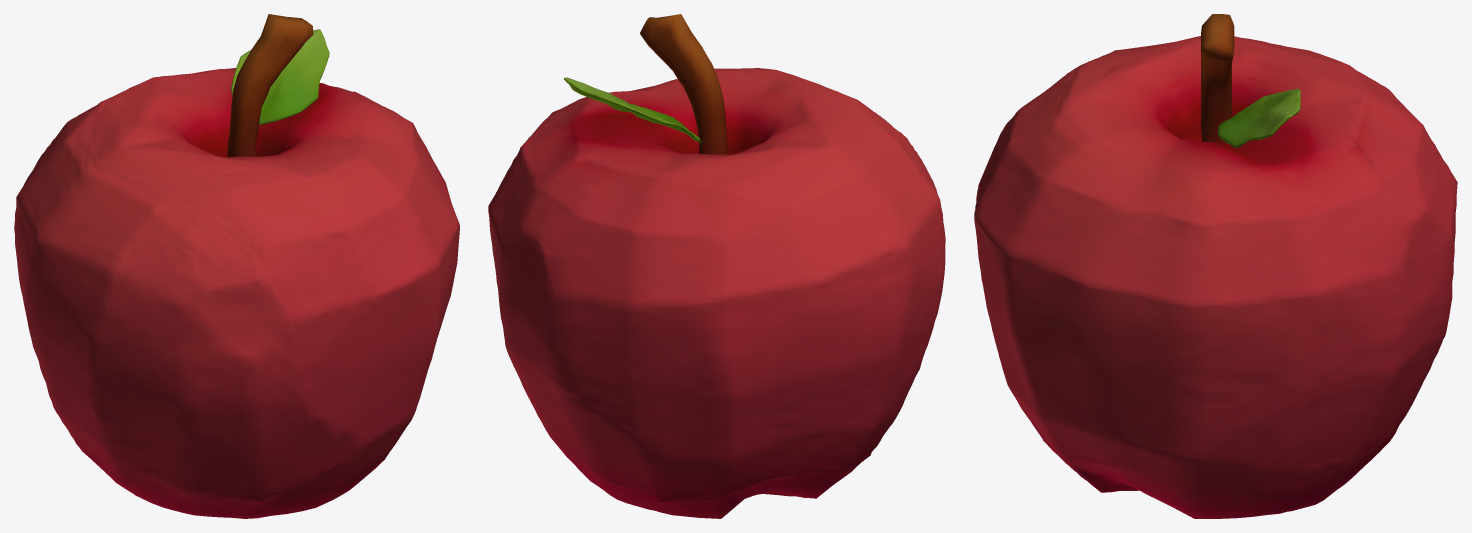
3 renders of one model, left to right at view 1: azimuth 30°, elevation 25°; view 2: azimuth 150°, elevation 25°; view 3: azimuth 270°, elevation 25°, orthographic. The views are drawn at different scales.
Parts seen in each view (by area): view 1: tripo_node_3b390c2e-c041-47c2-94fd-ea7db1e2d228; view 2: tripo_node_3b390c2e-c041-47c2-94fd-ea7db1e2d228; view 3: tripo_node_3b390c2e-c041-47c2-94fd-ea7db1e2d228.
Part boxes in pixels (bbox=[...]): tripo_node_3b390c2e-c041-47c2-94fd-ea7db1e2d228: bbox=[14, 14, 459, 518]; tripo_node_3b390c2e-c041-47c2-94fd-ea7db1e2d228: bbox=[488, 14, 945, 518]; tripo_node_3b390c2e-c041-47c2-94fd-ea7db1e2d228: bbox=[974, 14, 1457, 518].
Size of the model in its own units: 0.9178 by 1 by 0.91.
Materials: 1 (1 with a texture image).
